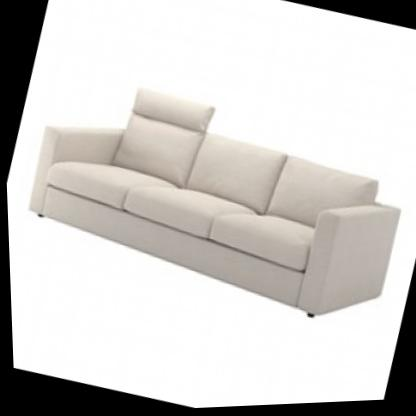Sofa: (1, 34, 416, 363)
